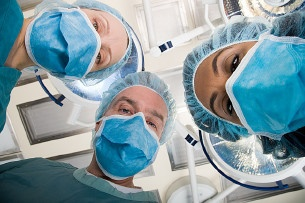Mask: (91, 99, 167, 174)
